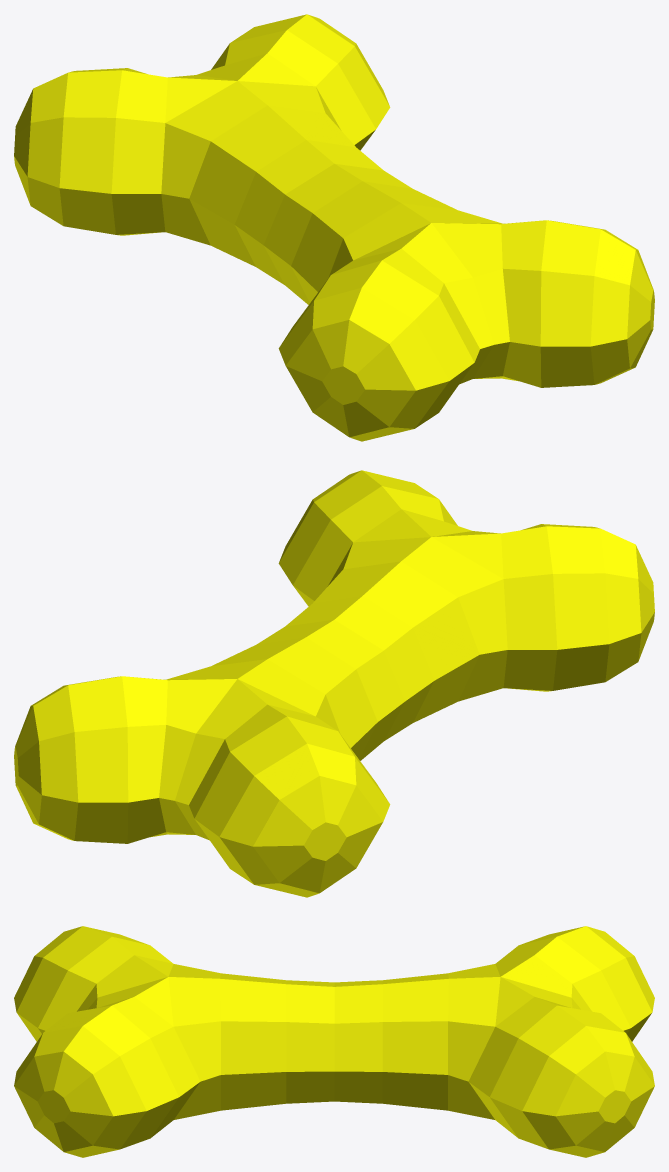
Rendered from body.glb.
3 views of the same model, one above another, from view 1: azimuth 30°, elevation 25°; view 2: azimuth 150°, elevation 25°; view 3: azimuth 270°, elevation 25° (orthographic). The views are drawn at different scales.
Parts seen in each view (by area): view 1: body_bone; view 2: body_bone; view 3: body_bone.
Boxes of the visible parts, bbox=[...] form: body_bone: bbox=[14, 14, 654, 441]; body_bone: bbox=[14, 470, 654, 897]; body_bone: bbox=[14, 926, 654, 1157].
Bounding box in the file's own units: 0.6249 × 0.2778 × 1.14.
Materials: 1 (1 with a texture image).
